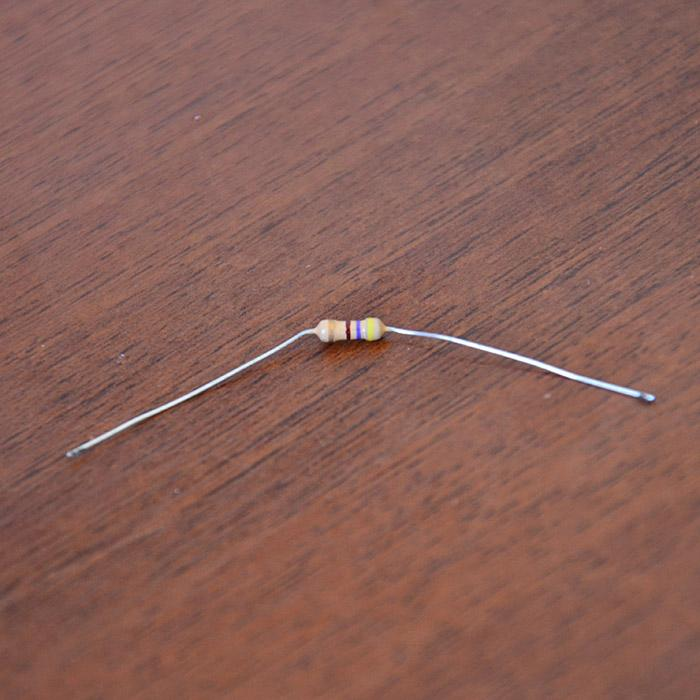resistor: (356, 312, 382, 385)
